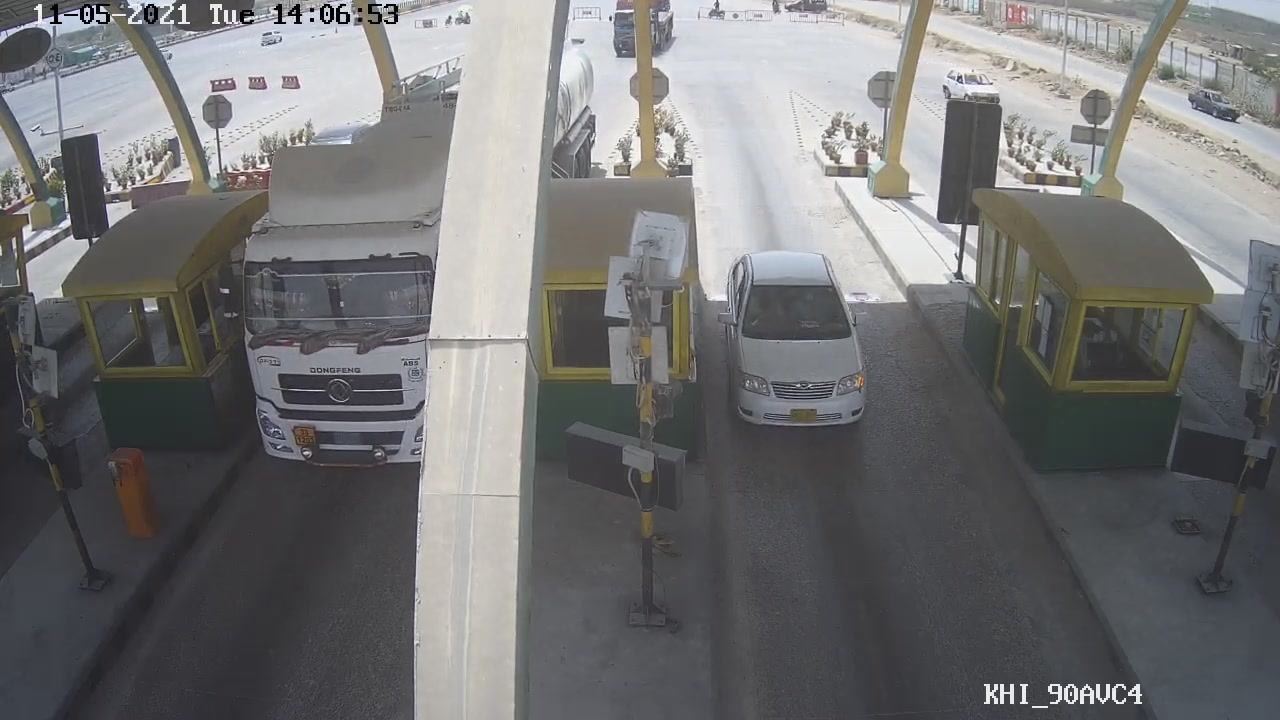F1: (717, 249, 870, 436)
